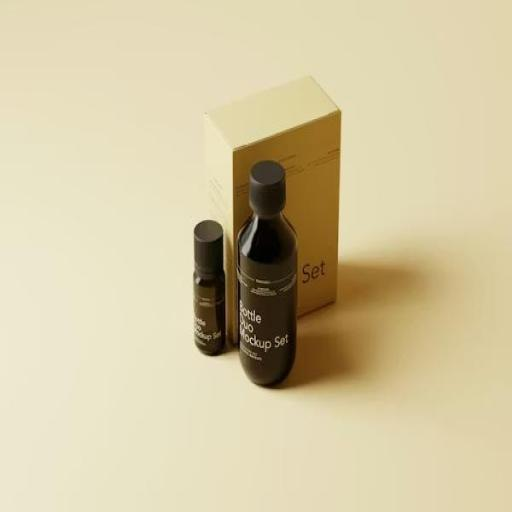bottle: (230, 157, 302, 398)
